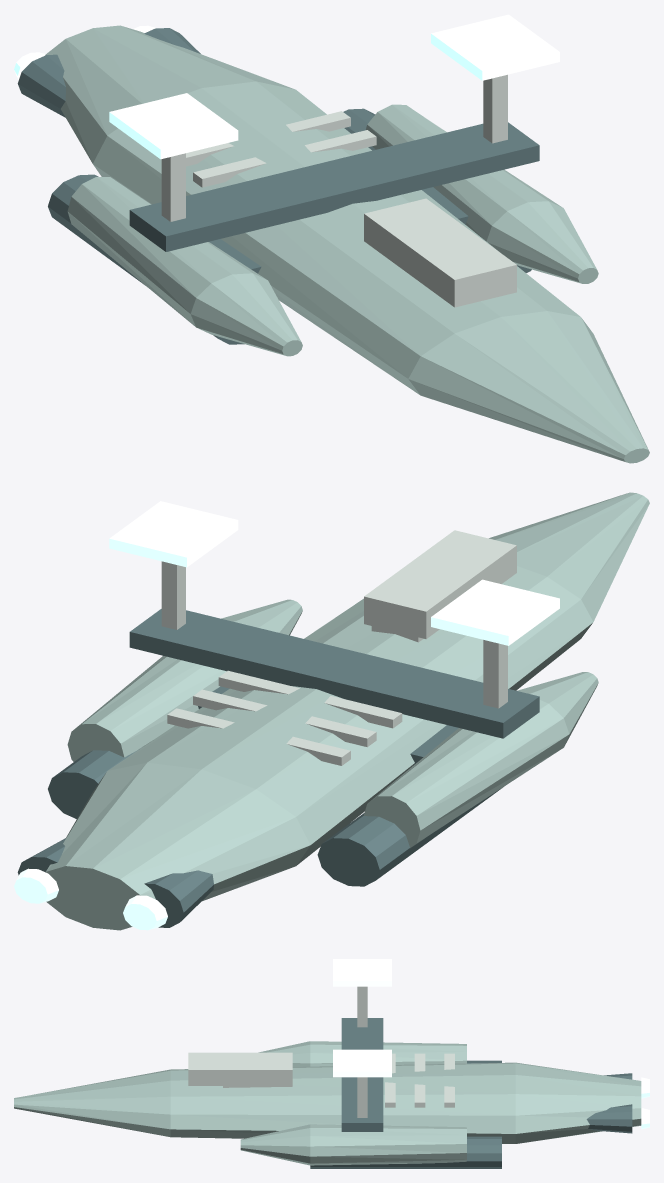
The picture shows the model from 3 angles, top to bottom: view 1: azimuth 30°, elevation 25°; view 2: azimuth 150°, elevation 25°; view 3: azimuth 270°, elevation 25°; orthographic projection. The views are drawn at different scales.
Bounding box in the file's own units: 3.48 × 1.68 × 8.32.
